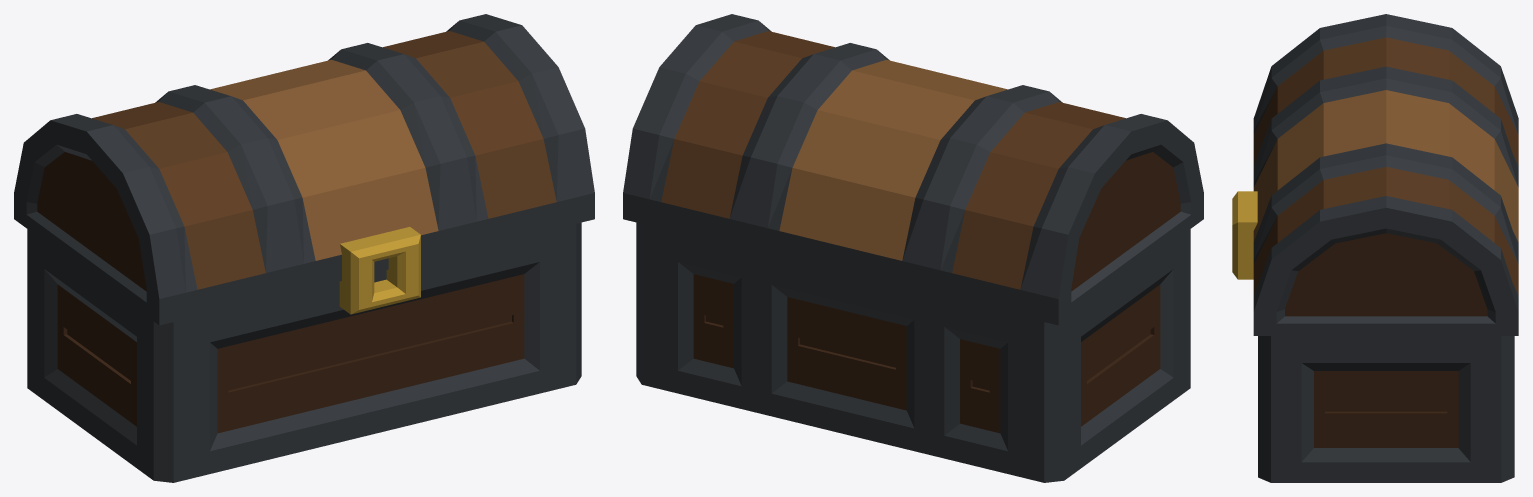
The model's file is treasure-chest-c2ac4f.glb.
3 views of the same model, side by side, from view 1: azimuth 30°, elevation 25°; view 2: azimuth 150°, elevation 25°; view 3: azimuth 270°, elevation 25° (orthographic). The views are drawn at different scales.
Visible parts, largest first — view 1: lid-mesh, chest-body, clasp-mesh; view 2: lid-mesh, chest-body; view 3: lid-mesh, chest-body, clasp-mesh.
Part boxes in pixels (x1,y1,x2,y2): lid-mesh: (14,14,594,325); chest-body: (27,222,581,482); clasp-mesh: (339,227,420,314); lid-mesh: (623,14,1203,325); chest-body: (636,222,1190,482); lid-mesh: (1253,14,1518,335); chest-body: (1258,336,1514,482); clasp-mesh: (1232,191,1257,279).
Bounding box in the file's own units: 0.9 × 0.6 × 0.562.
